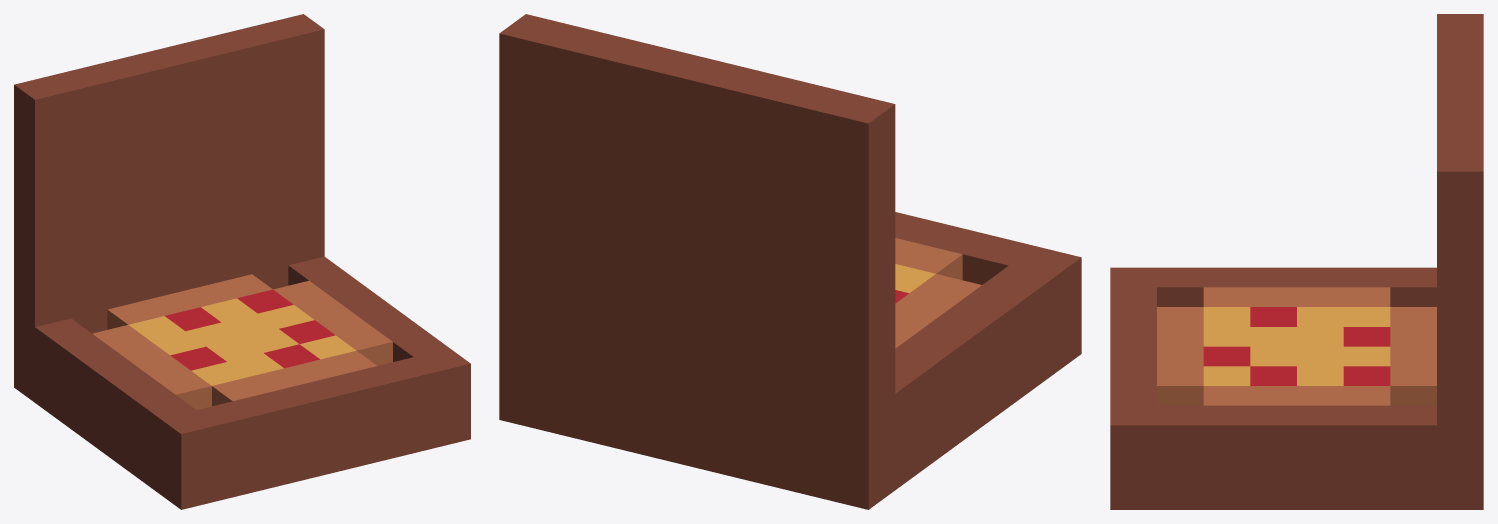
Rendered from Pizza.obj.
3 views of the same model, side by side, from view 1: azimuth 30°, elevation 25°; view 2: azimuth 150°, elevation 25°; view 3: azimuth 270°, elevation 25° (orthographic). The views are drawn at different scales.
Bounding box in the file's own units: 0.8 × 0.8 × 0.8.
1 material, 1 textured.
